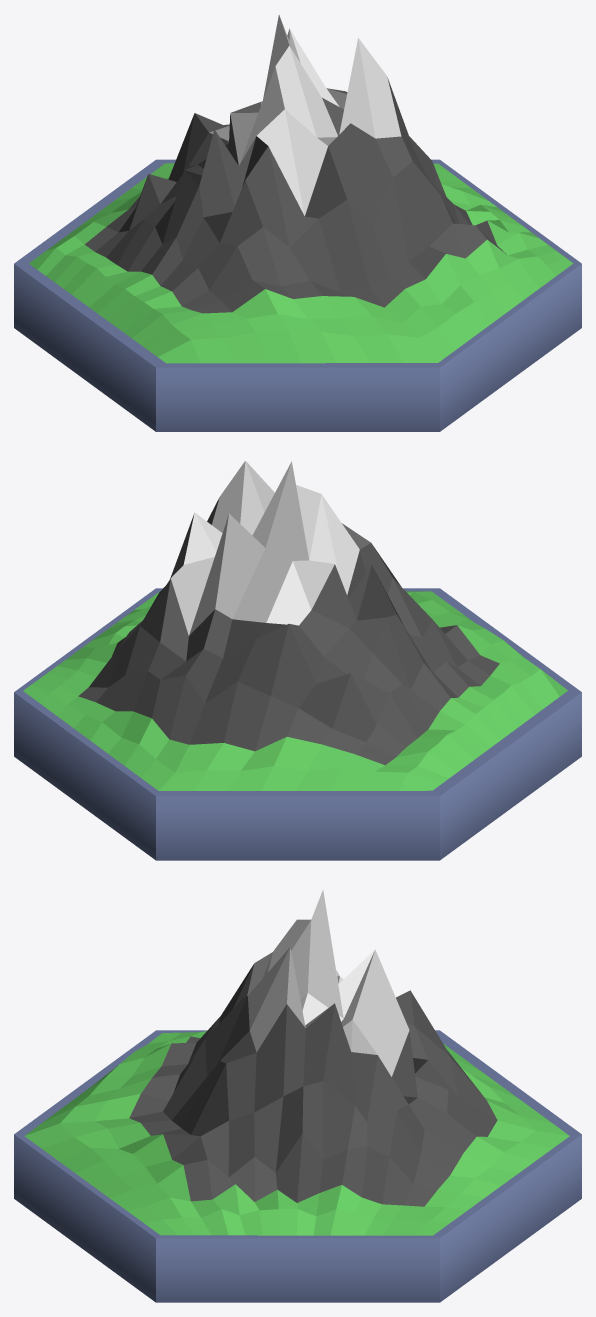
The model's file is mountains.fbx.
3 renders of one model, top to bottom at view 1: azimuth 30°, elevation 25°; view 2: azimuth 150°, elevation 25°; view 3: azimuth 270°, elevation 25°, orthographic.
Visible parts, largest first — view 1: Plane, Hexagon; view 2: Plane, Hexagon; view 3: Plane, Hexagon.
Boxes of the visible parts, x1,y1,x2,y2 form: Plane: (29, 14, 573, 363); Hexagon: (14, 159, 581, 431); Plane: (23, 461, 567, 790); Hexagon: (14, 588, 581, 860); Plane: (24, 889, 569, 1235); Hexagon: (14, 1030, 581, 1302).
Bounding box in the file's own units: 346 × 238 × 400.
